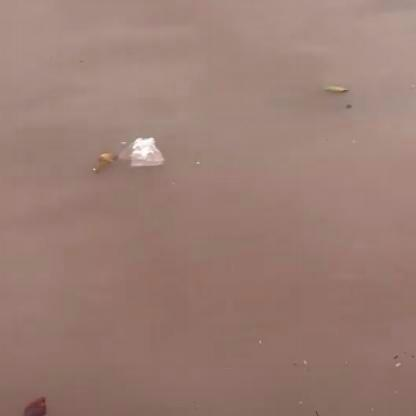Trash: (132, 137, 168, 170)
